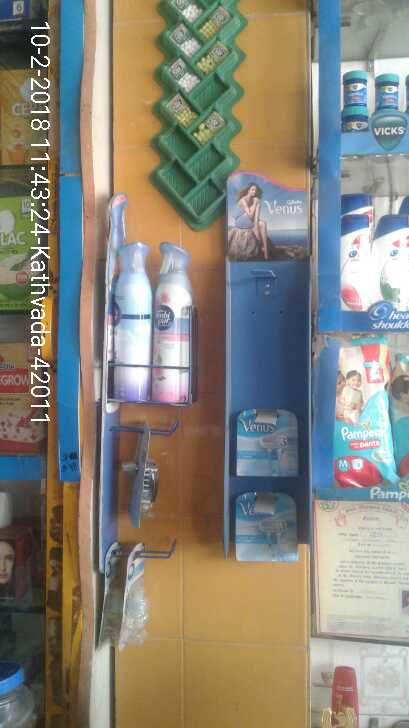beauty: (226, 403, 304, 486), (235, 487, 298, 566), (369, 208, 409, 309), (336, 206, 372, 317)
home: (152, 239, 198, 408), (108, 235, 151, 407)
pharmacy: (318, 339, 400, 488), (372, 72, 402, 112), (340, 66, 366, 106)
